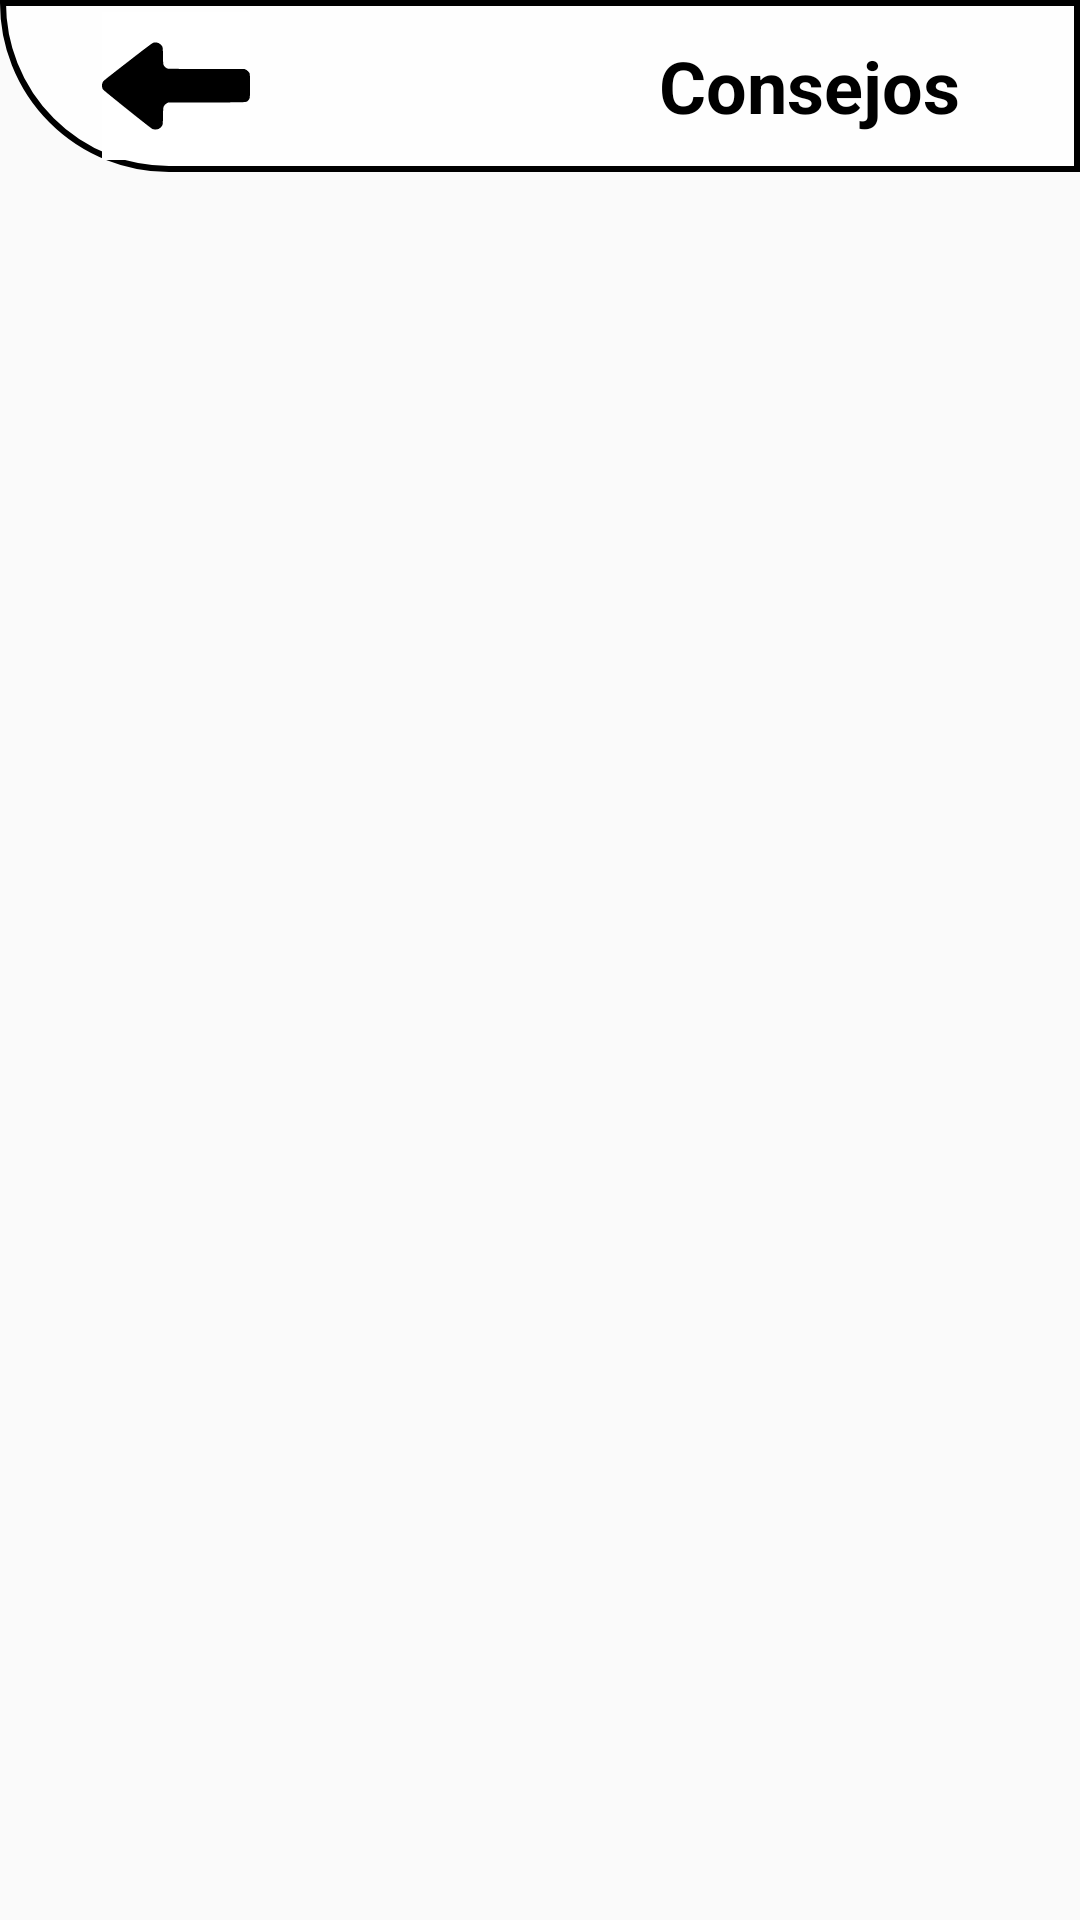

Named icons in this screenshot (1080px x 1920px) and their centers, point (x, y):
straight left arrow: point (176, 86)
